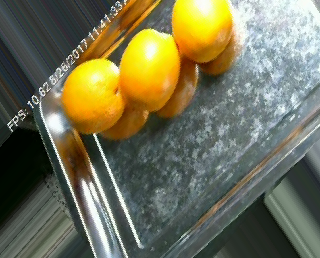Orange: (119, 28, 181, 111), (60, 57, 125, 134), (170, 1, 233, 62)
